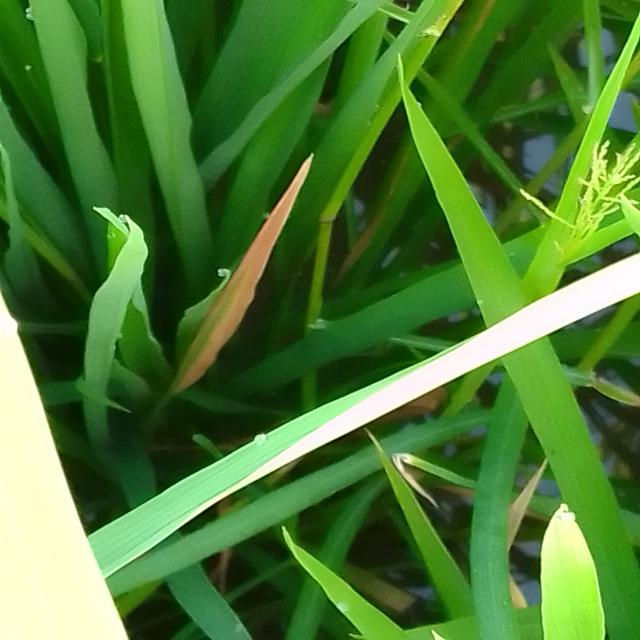Brown spot: (143, 142, 339, 414)
